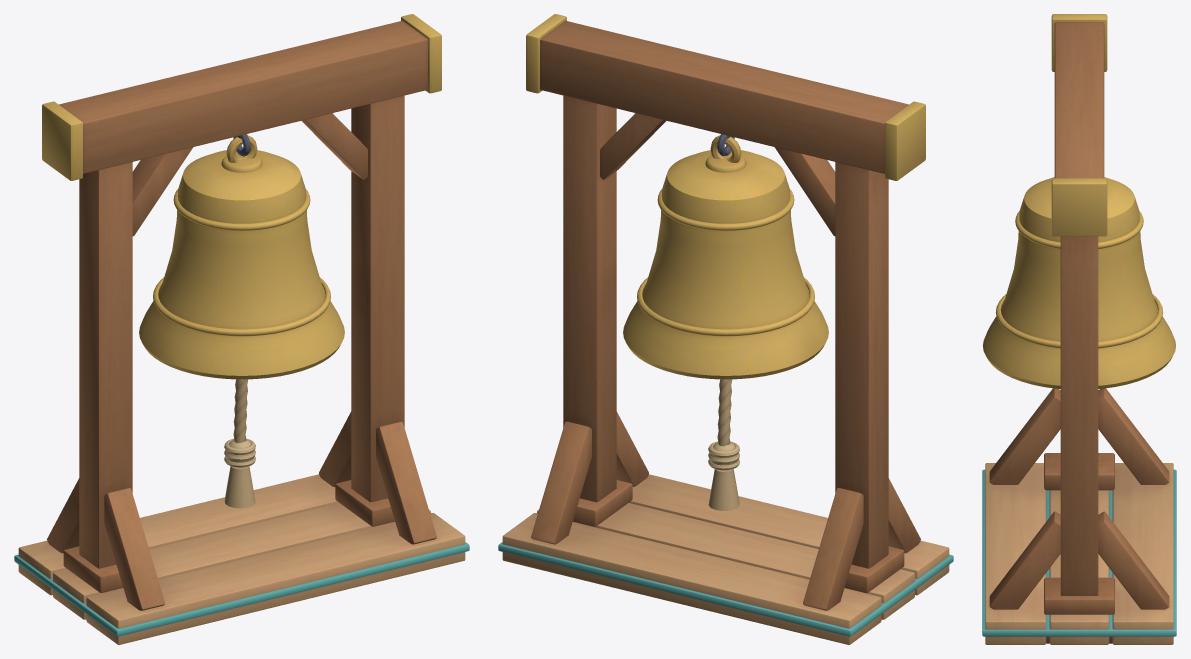
Rendered from campana_barco.glb.
3 renders of one model, left to right at view 1: azimuth 30°, elevation 25°; view 2: azimuth 150°, elevation 25°; view 3: azimuth 270°, elevation 25°, orthographic. The views are drawn at different scales.
Visible parts, largest first — view 1: ships-bell_body; view 2: ships-bell_body; view 3: ships-bell_body.
Part boxes in pixels (x1,y1,x2,y2): ships-bell_body: (14,14,469,644); ships-bell_body: (498,14,953,644); ships-bell_body: (982,14,1176,644).
Size of the model in its own units: 0.684 by 0.875 by 0.33.
Materials: 2 (2 with a texture image).
